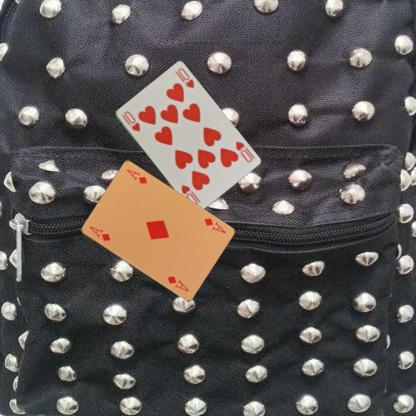10h: (118, 108, 141, 133), (233, 138, 253, 164)
Ad: (201, 216, 227, 234), (87, 224, 112, 242)
